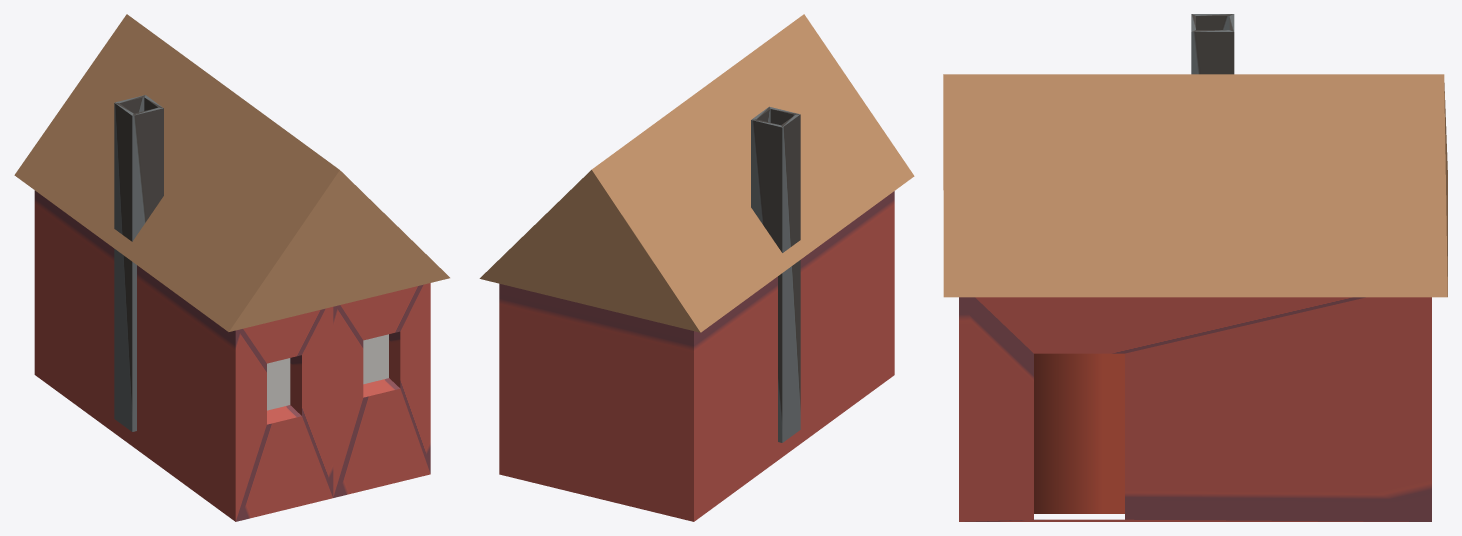
File: Casa3.fbx
The picture shows the model from 3 angles, left to right: view 1: azimuth 30°, elevation 25°; view 2: azimuth 150°, elevation 25°; view 3: azimuth 270°, elevation 25°; orthographic projection. The views are drawn at different scales.
Visible parts, largest first — view 1: CasasMediavais.003; view 2: CasasMediavais.003; view 3: CasasMediavais.003.
Part boxes in pixels (x1=…): CasasMediavais.003: x1=14, y1=14, x2=449, y2=521; CasasMediavais.003: x1=479, y1=14, x2=914, y2=521; CasasMediavais.003: x1=943, y1=14, x2=1447, y2=521.
Bounding box in the file's own units: 1718 × 2477 × 2878.
